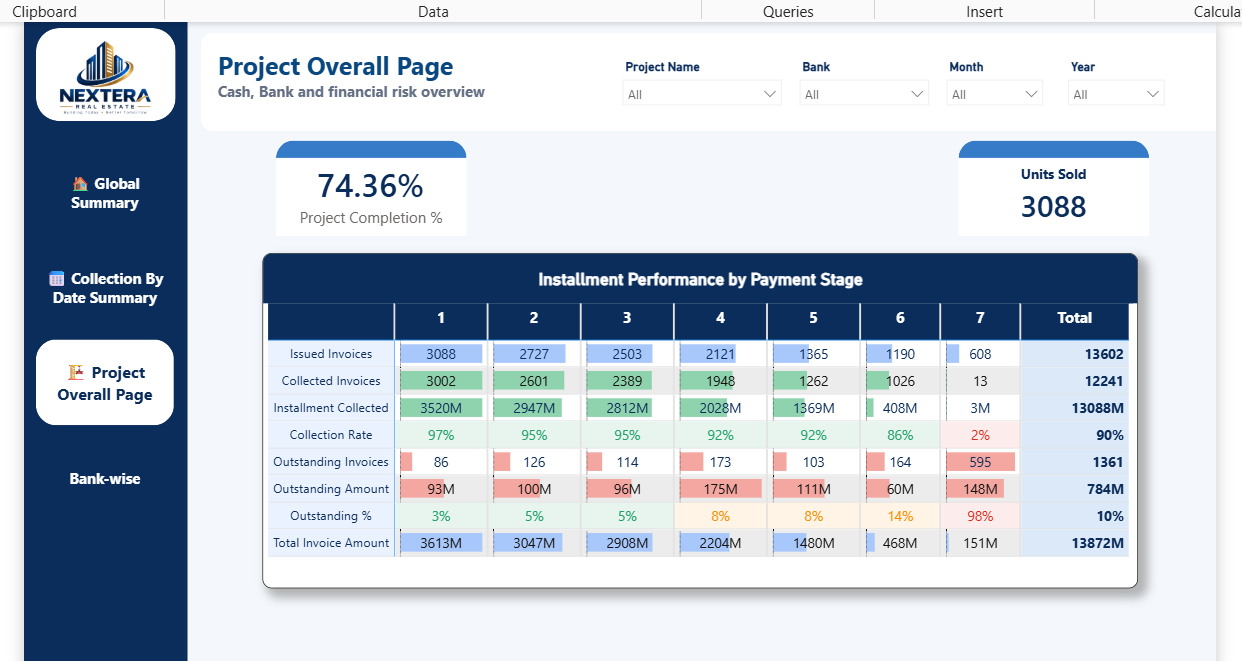

The dashboard page shown, as its layout file describes it:
{"tool":"powerbi","page":{"name":"🏗️ Project Overall Page","canvas":[1280,729],"ordinal":2},"visuals":[{"type":"shape","box":[0,0,175.4,890],"z":0},{"type":"pageNavigator","box":[13.6,136.2,148.8,400.7],"z":1000},{"type":"shape","box":[190.5,11.5,1114.8,105.7],"z":2000},{"type":"shape","box":[12.6,6.8,150,100],"z":3000},{"type":"image","box":[12.6,6.8,148.8,107],"z":4000},{"type":"textbox","box":[202.3,23.3,575.8,73.9],"z":5000},{"type":"slicer","fields":{"Values":["Dim Project.Project Name"]},"box":[632.2,36,190.6,55.4],"z":6000},{"type":"slicer","fields":{"Values":["Dim Bank.Bank"]},"box":[822.9,36,158.5,60.3],"z":7000},{"type":"slicer","fields":{"Values":["DimDate.Month Name"]},"box":[981.4,36,123.5,61.3],"z":8000},{"type":"slicer","fields":{"Values":["DimDate.Year"]},"box":[1111.7,36,123.5,61.3],"z":9000},{"type":"pivotTable","title":"Installment Performance by Payment Stage","fields":{"Values":["Dax.Issued Installments Count","Dax.Collected Invoices","Dax.Installment Collected","Dax.Installment Collection Rate","Dax.Installment Outstanding Count","Dax.Installment Outstanding","Dax.Installment Outstanding %","Dax.Installment Total Invoice Amount"],"Columns":["Dim Payment.Payment Number"]},"box":[256.8,248.7,940,360],"z":10000},{"type":"shape","box":[1002.8,127.5,204.7,18.9],"z":11000},{"type":"cardVisual","fields":{"Data":["Dax.# Sold"]},"box":[1002.8,146.3,204.7,83.5],"z":12000},{"type":"shape","box":[271.1,127.5,204.7,18.9],"z":13000},{"type":"cardVisual","fields":{"Data":["Dax.Project Completion %"]},"box":[271.1,146.3,204.7,83.5],"z":14000}]}

Visuals, with their boxes on the page's 1280x729 design canvas (x1, y1, x2, y2). These are canvas units, not pixel positions in the 1242x661 screenshot, which may show the page scaled, cropped or inside an application window:
shape: box(0, 0, 175, 890)
pageNavigator: box(14, 136, 162, 537)
shape: box(190, 12, 1305, 117)
shape: box(13, 7, 163, 107)
image: box(13, 7, 161, 114)
textbox: box(202, 23, 778, 97)
slicer - Dim Project.Project Name: box(632, 36, 823, 91)
slicer - Dim Bank.Bank: box(823, 36, 981, 96)
slicer - DimDate.Month Name: box(981, 36, 1105, 97)
slicer - DimDate.Year: box(1112, 36, 1235, 97)
"Installment Performance by Payment Stage" pivotTable: box(257, 249, 1197, 609)
shape: box(1003, 128, 1208, 146)
cardVisual - Dax.# Sold: box(1003, 146, 1208, 230)
shape: box(271, 128, 476, 146)
cardVisual - Dax.Project Completion %: box(271, 146, 476, 230)
